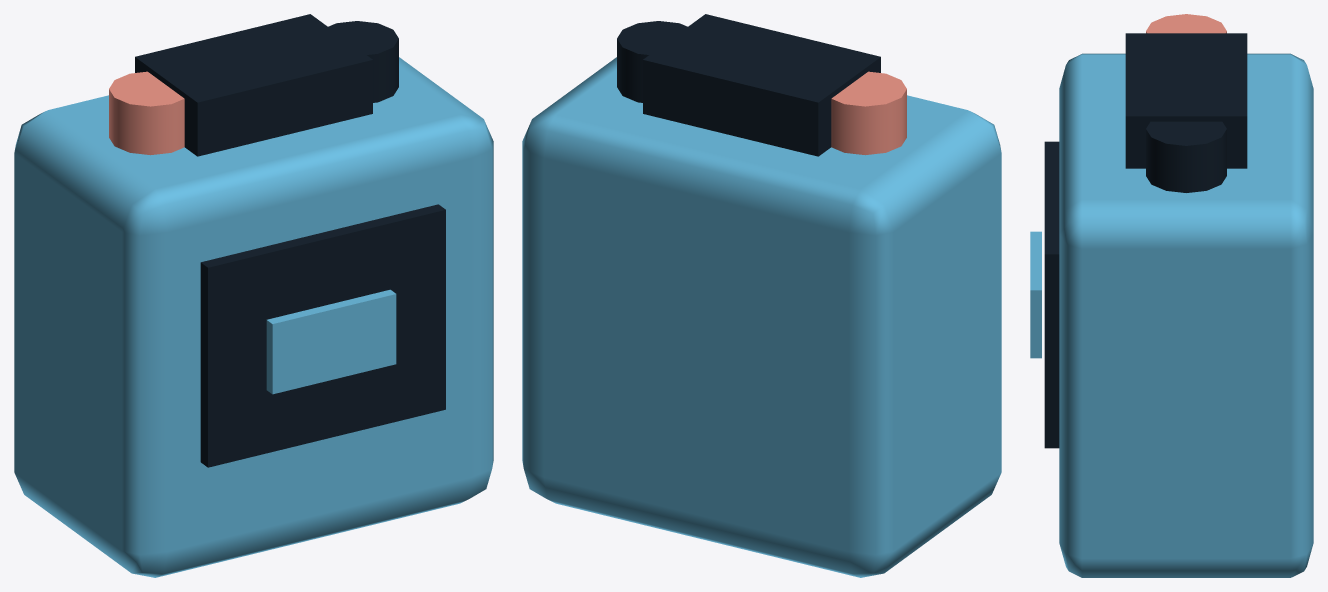
The model's file is item-battery.glb.
3 views of the same model, side by side, from view 1: azimuth 30°, elevation 25°; view 2: azimuth 150°, elevation 25°; view 3: azimuth 270°, elevation 25° (orthographic). The views are drawn at different scales.
Visible parts, largest first — view 1: package, label, contact, charge, terminal (×2); view 2: package, contact, terminal (×2); view 3: package, contact, terminal (×2), label, charge.
Boxes of the visible parts, <box> form: package: <box>14,57,493,577</box>; label: <box>200,204,445,467</box>; contact: <box>135,14,372,156</box>; charge: <box>266,289,396,394</box>; terminal (×2): <box>109,21,398,155</box>; package: <box>522,57,1001,577</box>; contact: <box>643,14,880,156</box>; terminal (×2): <box>617,21,906,155</box>; package: <box>1059,53,1313,577</box>; contact: <box>1125,33,1247,168</box>; terminal (×2): <box>1146,14,1226,192</box>; label: <box>1044,141,1059,448</box>; charge: <box>1030,231,1041,358</box>.
Size of the model in its own units: 0.72 by 0.82 by 0.49.
